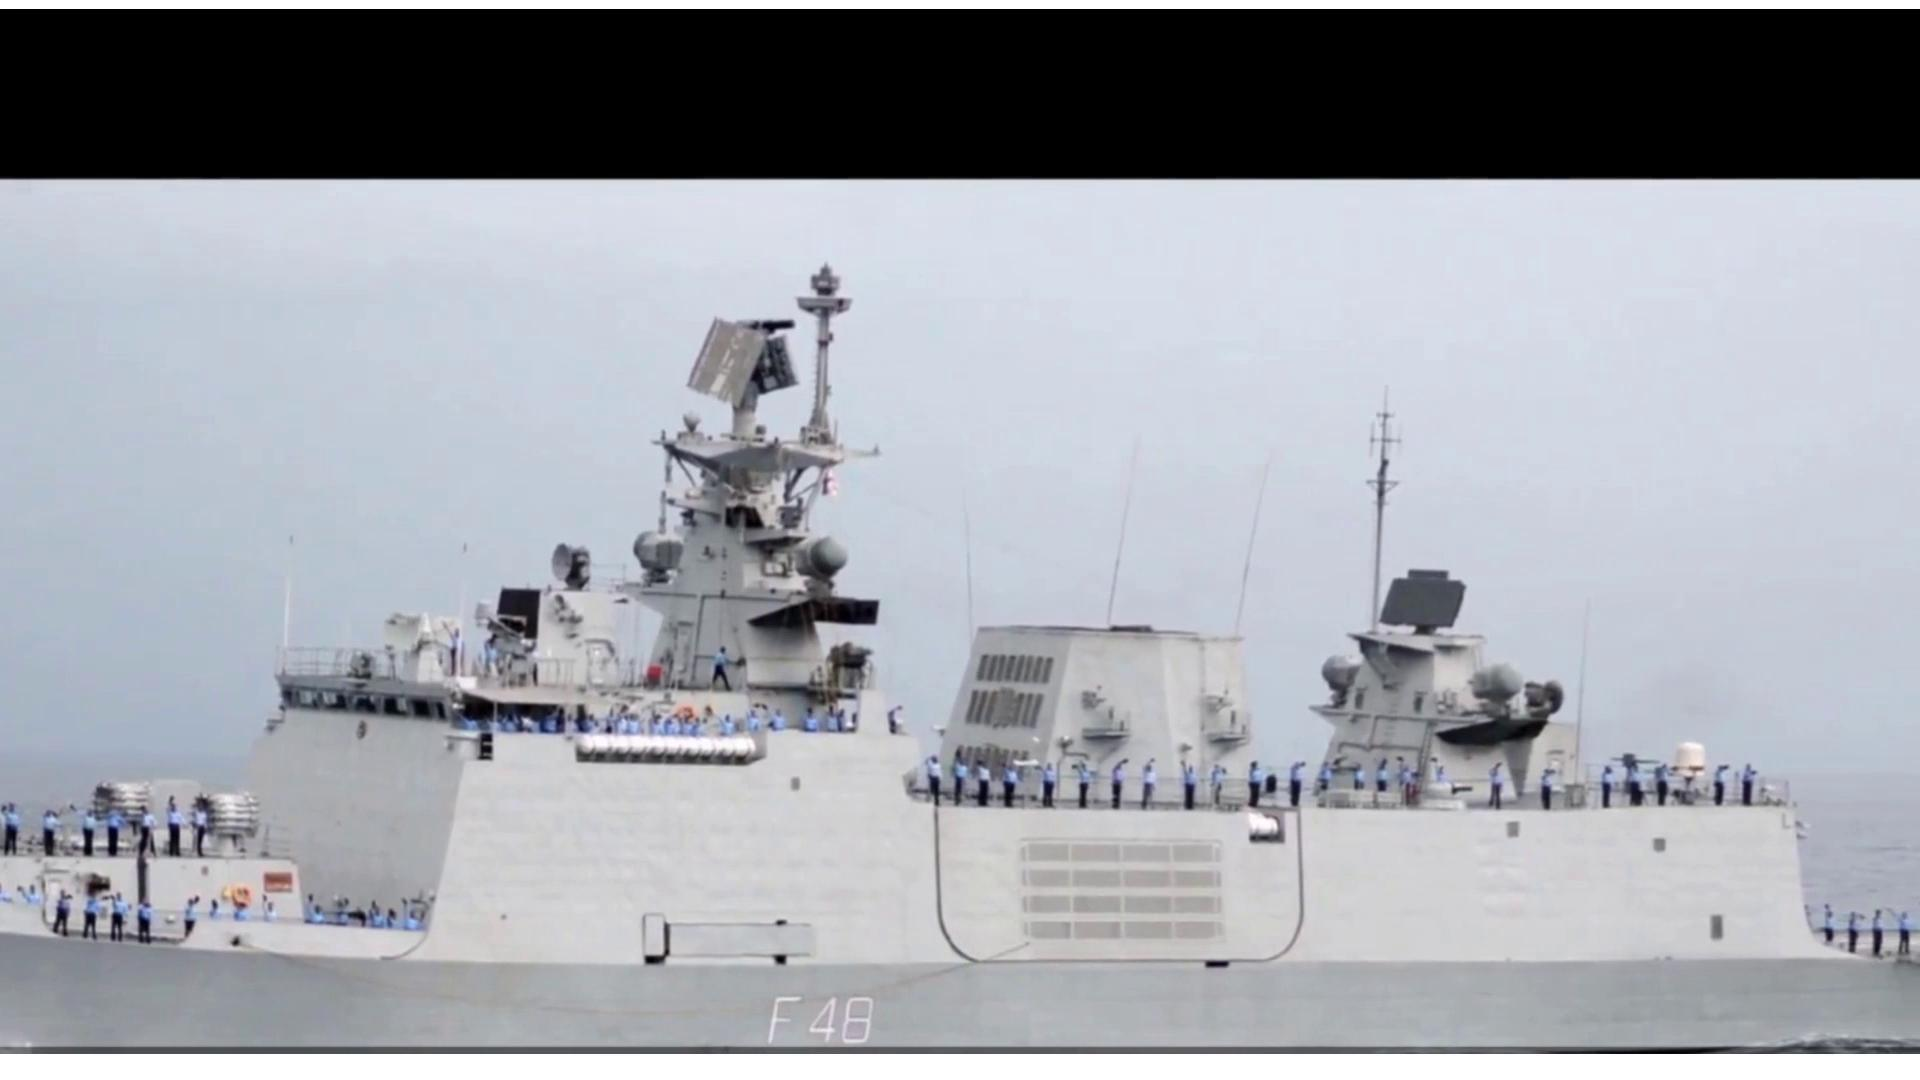OCR: (740, 989, 898, 1051)
